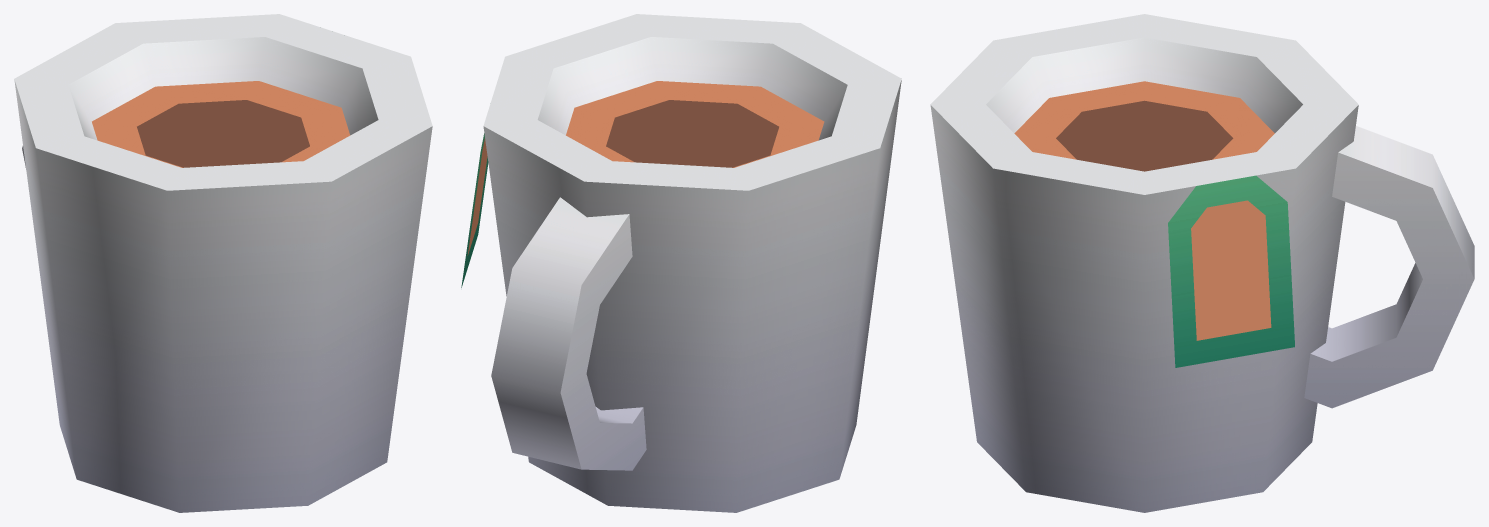
File: cup-tea.glb
3 renders of one model, left to right at view 1: azimuth 30°, elevation 25°; view 2: azimuth 150°, elevation 25°; view 3: azimuth 270°, elevation 25°, orthographic.
Visible parts, largest first — view 1: cup-tea; view 2: cup-tea; view 3: cup-tea.
Part boxes in pixels (<box>): cup-tea: <box>14,14,432,512</box>; cup-tea: <box>461,14,901,512</box>; cup-tea: <box>930,14,1474,512</box>.
Bounding box in the file's own units: 0.2369 × 0.2 × 0.2921.
1 material, 1 textured.
